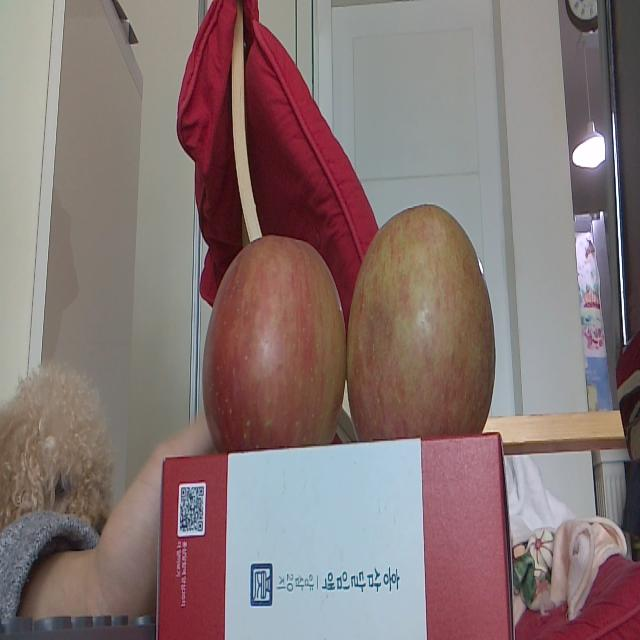apple: (346, 206, 496, 440), (202, 234, 346, 446)
